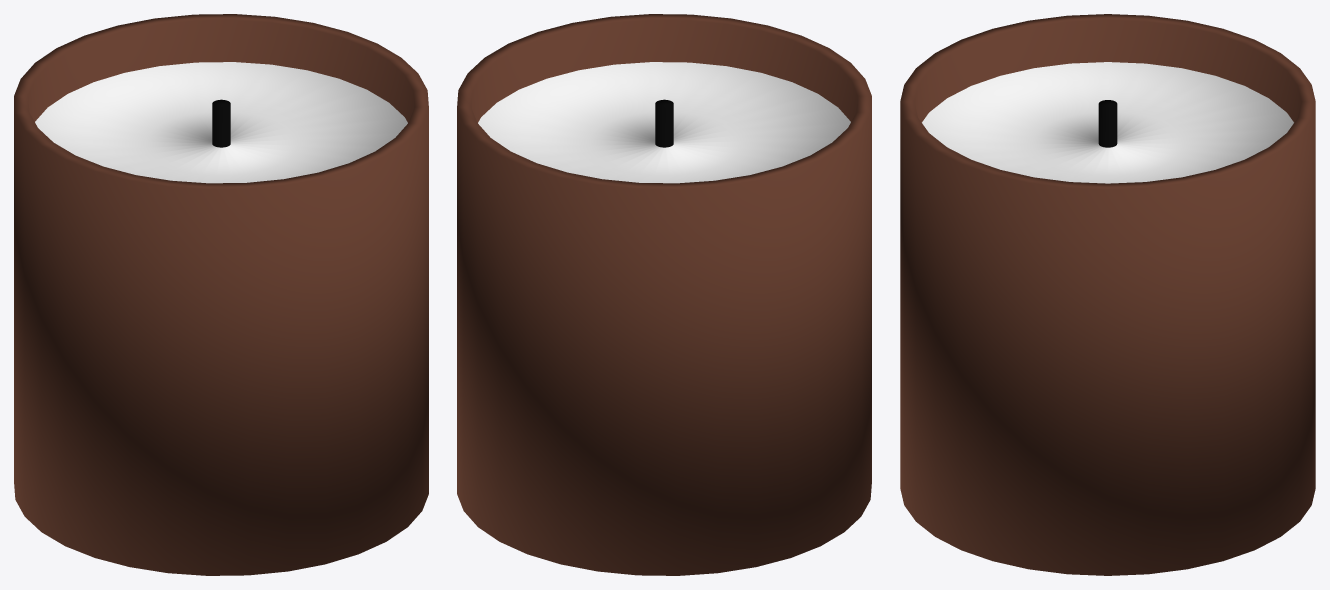
The model's file is candle_new.glb.
3 renders of one model, left to right at view 1: azimuth 30°, elevation 25°; view 2: azimuth 150°, elevation 25°; view 3: azimuth 270°, elevation 25°, orthographic.
Visible parts, largest first — view 1: lightholder1.001; view 2: lightholder1.001; view 3: lightholder1.001.
Boxes of the visible parts, left/top/right/bottom form: lightholder1.001: left=14, top=14, right=428, bottom=575; lightholder1.001: left=457, top=14, right=871, bottom=575; lightholder1.001: left=900, top=14, right=1315, bottom=575.
Size of the model in its own units: 0.1541 by 0.158 by 0.1541.
1 material, 1 textured.
